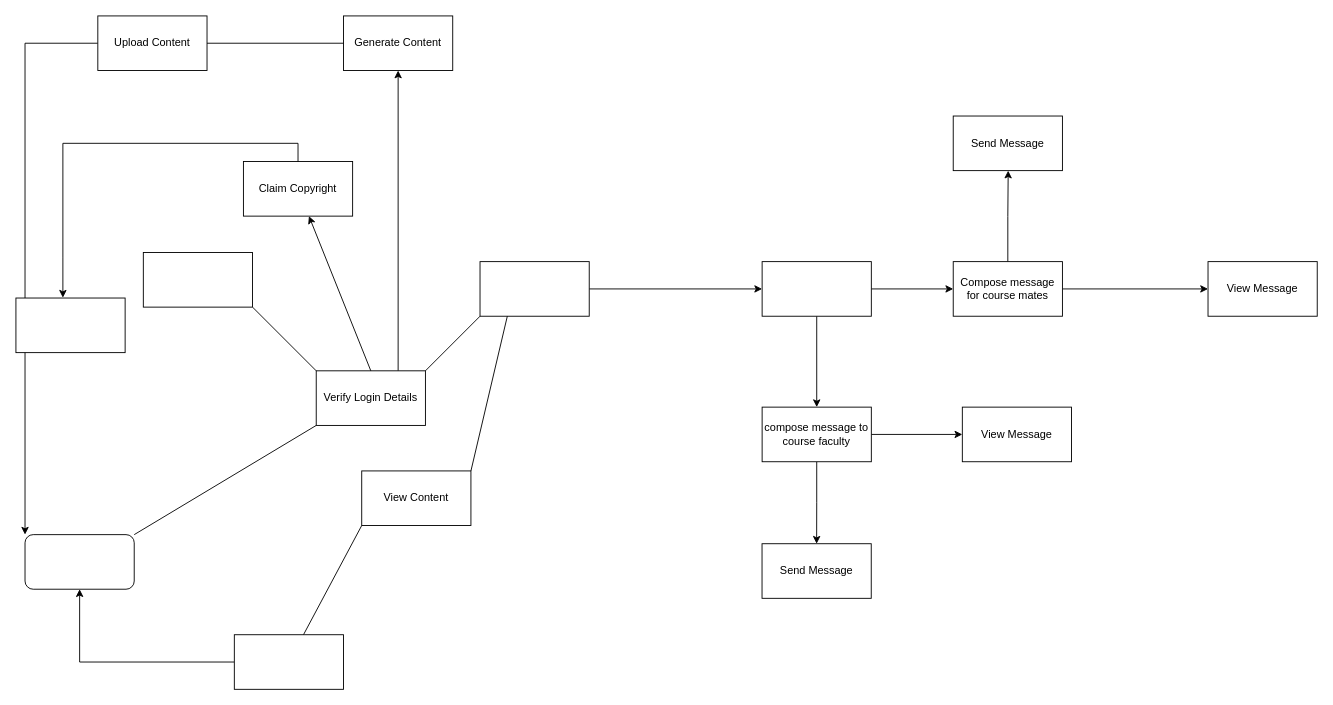
Image size: 1333x705. Some labels were removed from this diagram. The shapes that lost their labels are listed below. From the top down, each one's centre as x and y in pixels, then its label:
At (x=197, y=279): "Sign In / Login Details".
At (x=534, y=288): "View Courses".
At (x=816, y=288): "Doubt Solver".
At (x=70, y=325): "Validation by Admin".
At (x=79, y=561): "Database".
At (x=288, y=661): "Update taken Courses".
